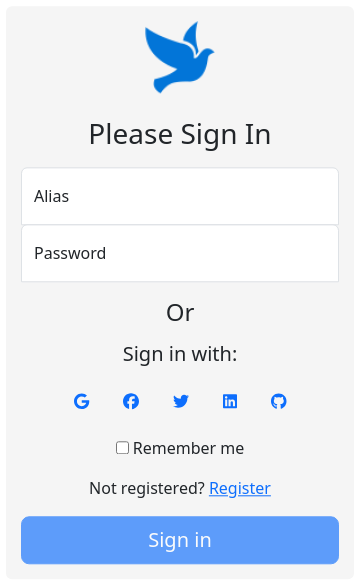
Test: Login Component › disables singn in button if either alias or password field is empty
This screenshot has width=361, height=587.
Step 1. Type "test" into the field labelled "Alias" → (180, 196), box [21,167,339,225]
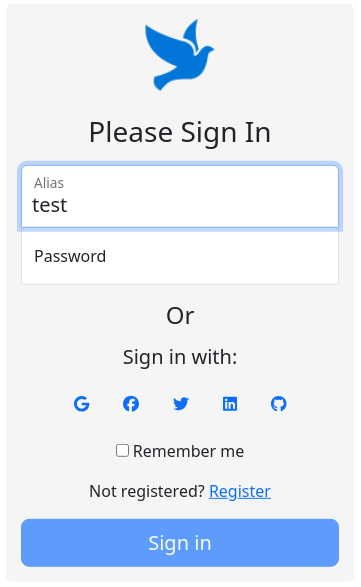
Step 2. Clear the password field labelled "Password" → (180, 255), box [21,226,339,284]
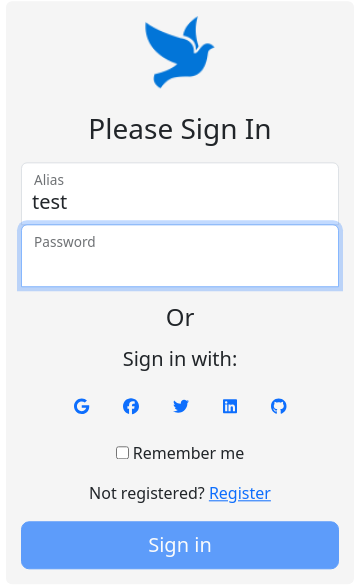
expect the button "Sign in" is disabled: met, box [21,522,339,570]
Step 3. Type "test" into the password field labelled "Password" → (180, 255), box [21,224,339,287]
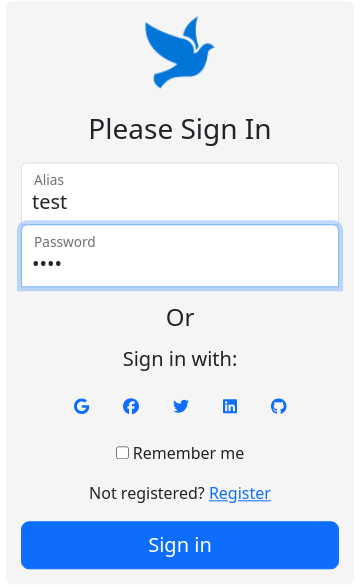
Step 4. Clear the field labelled "Alias" → (180, 193), box [21,162,339,225]
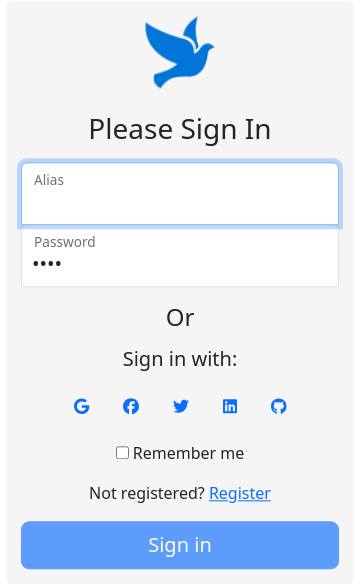
expect the button "Sign in" is disabled: met, box [21,522,339,570]
